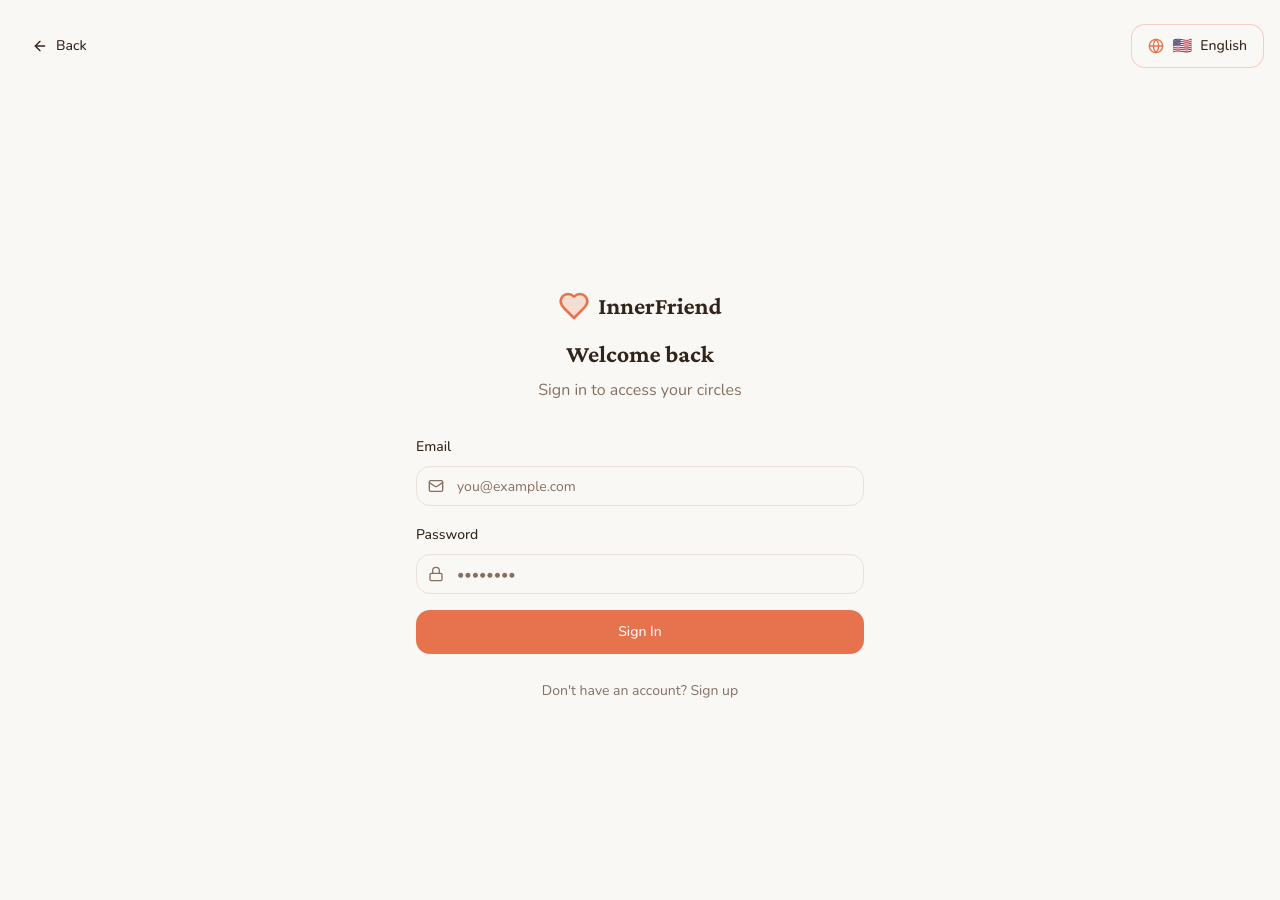
Scenario: Auth Page › sign up form › should toggle to sign up mode
Note: Find toggle link/button - the text is "Don't have an account? Sign up"
Click the button "Don't have an account? Sign up".
click(640, 691)  # box x1=542 y1=681 x2=738 y2=701
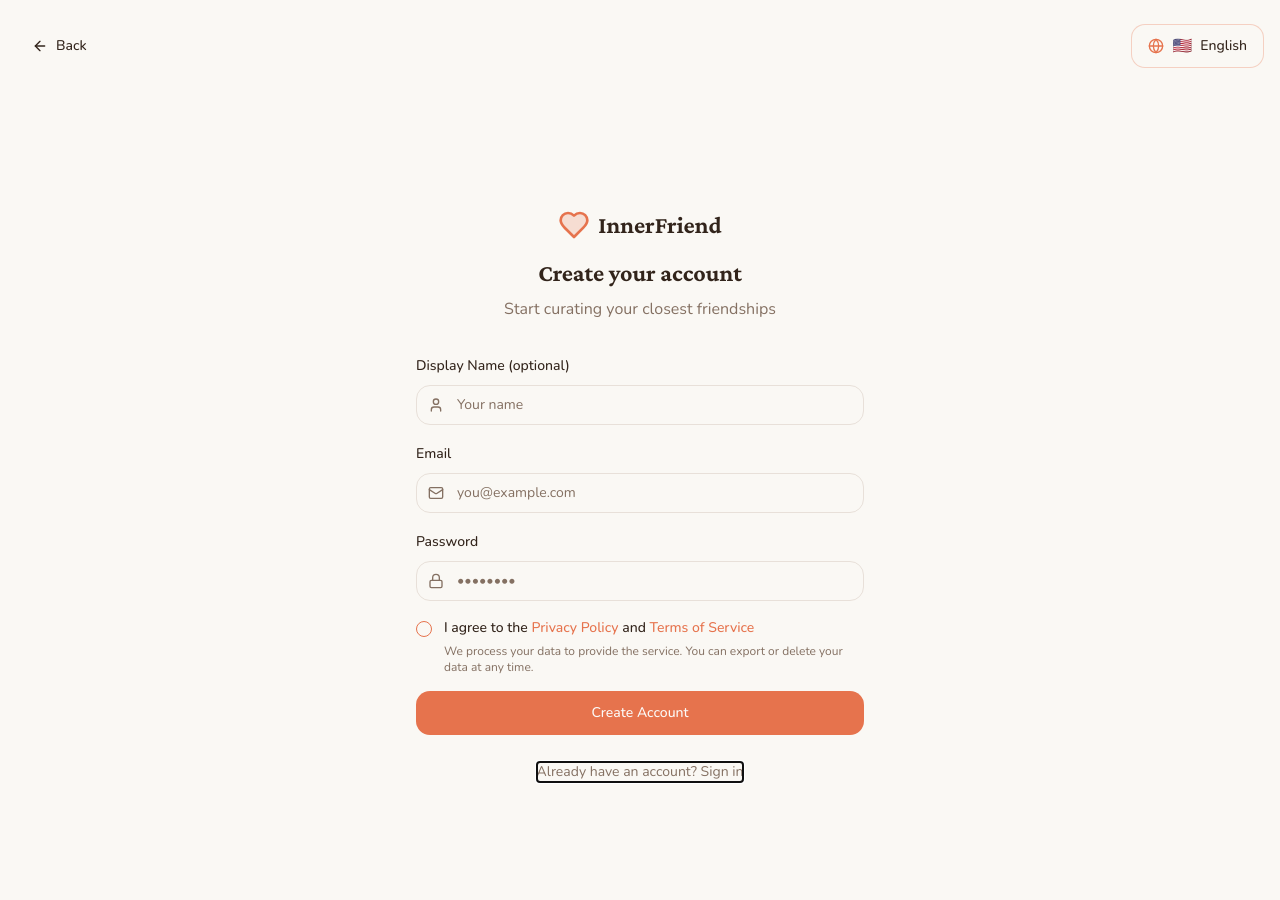
Expected: the button "Create Account" is shown, x1=416 y1=691 x2=864 y2=735
